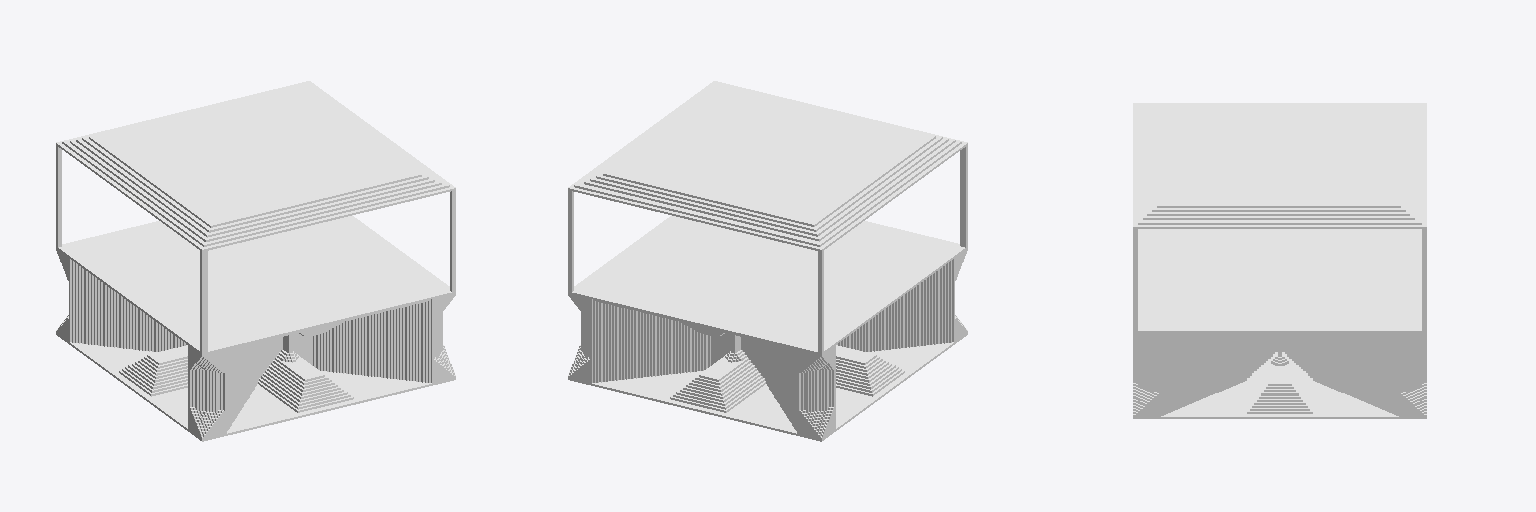
File: MiddleTile.obj
The picture shows the model from 3 angles: view 1: azimuth 30°, elevation 25°; view 2: azimuth 150°, elevation 25°; view 3: azimuth 270°, elevation 25°; orthographic projection.
Size of the model in its own units: 126 by 96 by 126.